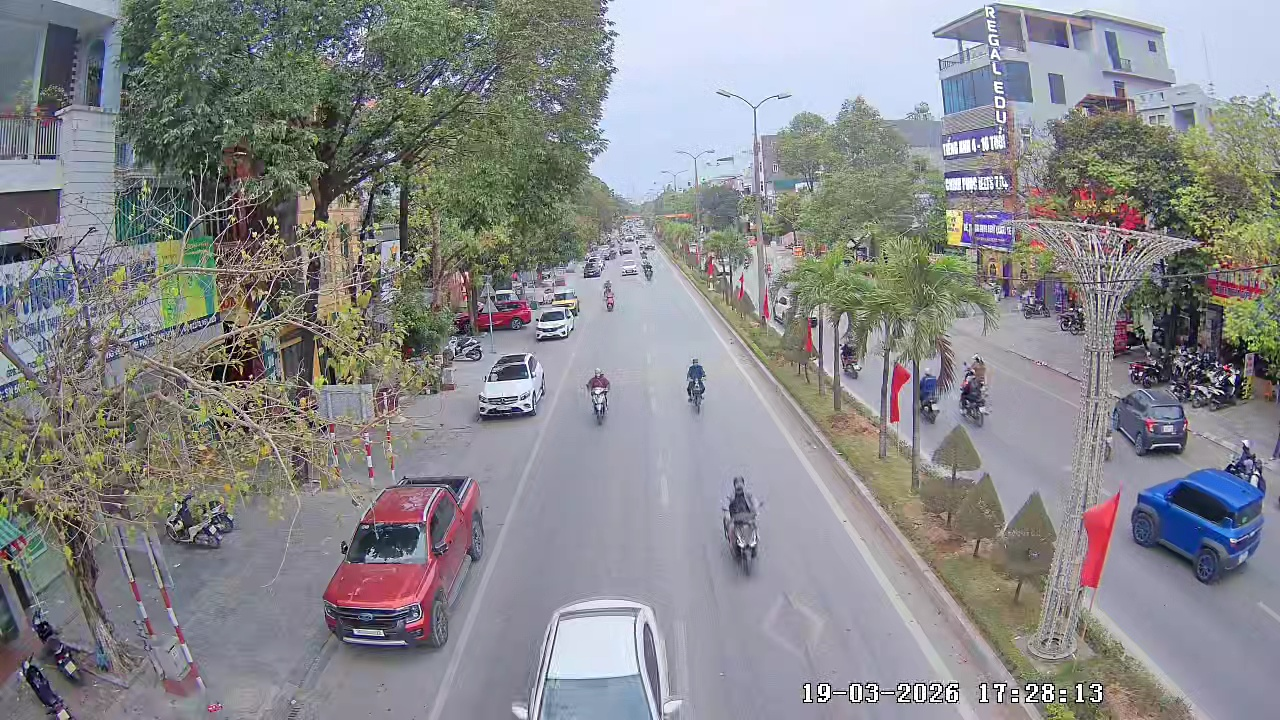car: (322, 473, 487, 649), (515, 593, 684, 719), (1130, 467, 1266, 584), (1115, 386, 1191, 457), (475, 352, 545, 420), (533, 303, 575, 342), (493, 297, 532, 332)
motorbike: (717, 473, 765, 578), (958, 355, 991, 426), (584, 366, 612, 426), (684, 356, 708, 416), (917, 369, 942, 425), (603, 279, 618, 311), (642, 256, 654, 281)
